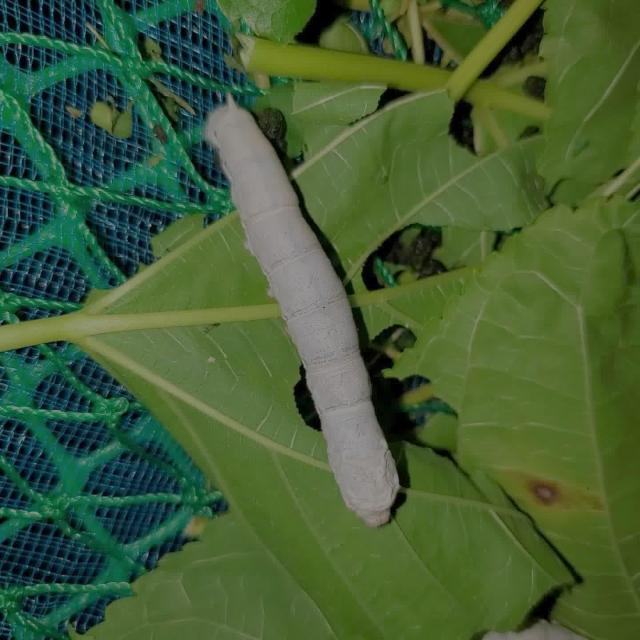Healthy: (160, 67, 438, 540)
